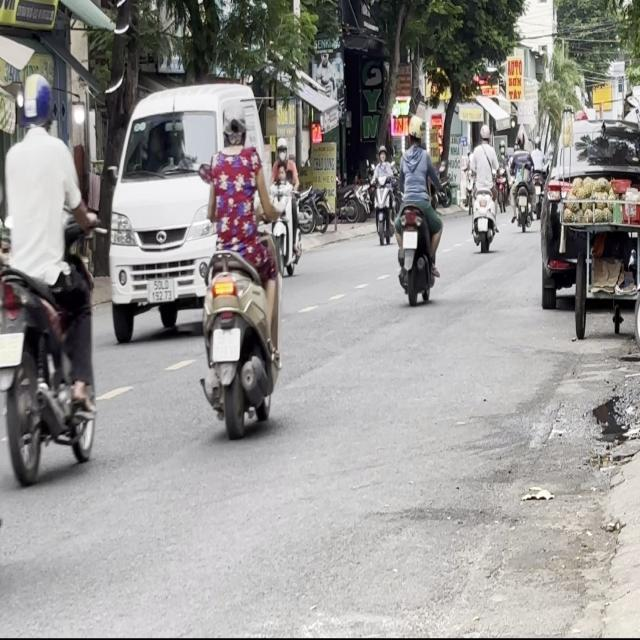helmet: (19, 73, 54, 133)
licenseplate: (0, 72, 100, 481), (195, 94, 286, 441)
motorcyclist: (219, 98, 248, 149)
nohelmet: (211, 328, 239, 361), (0, 331, 22, 363)
